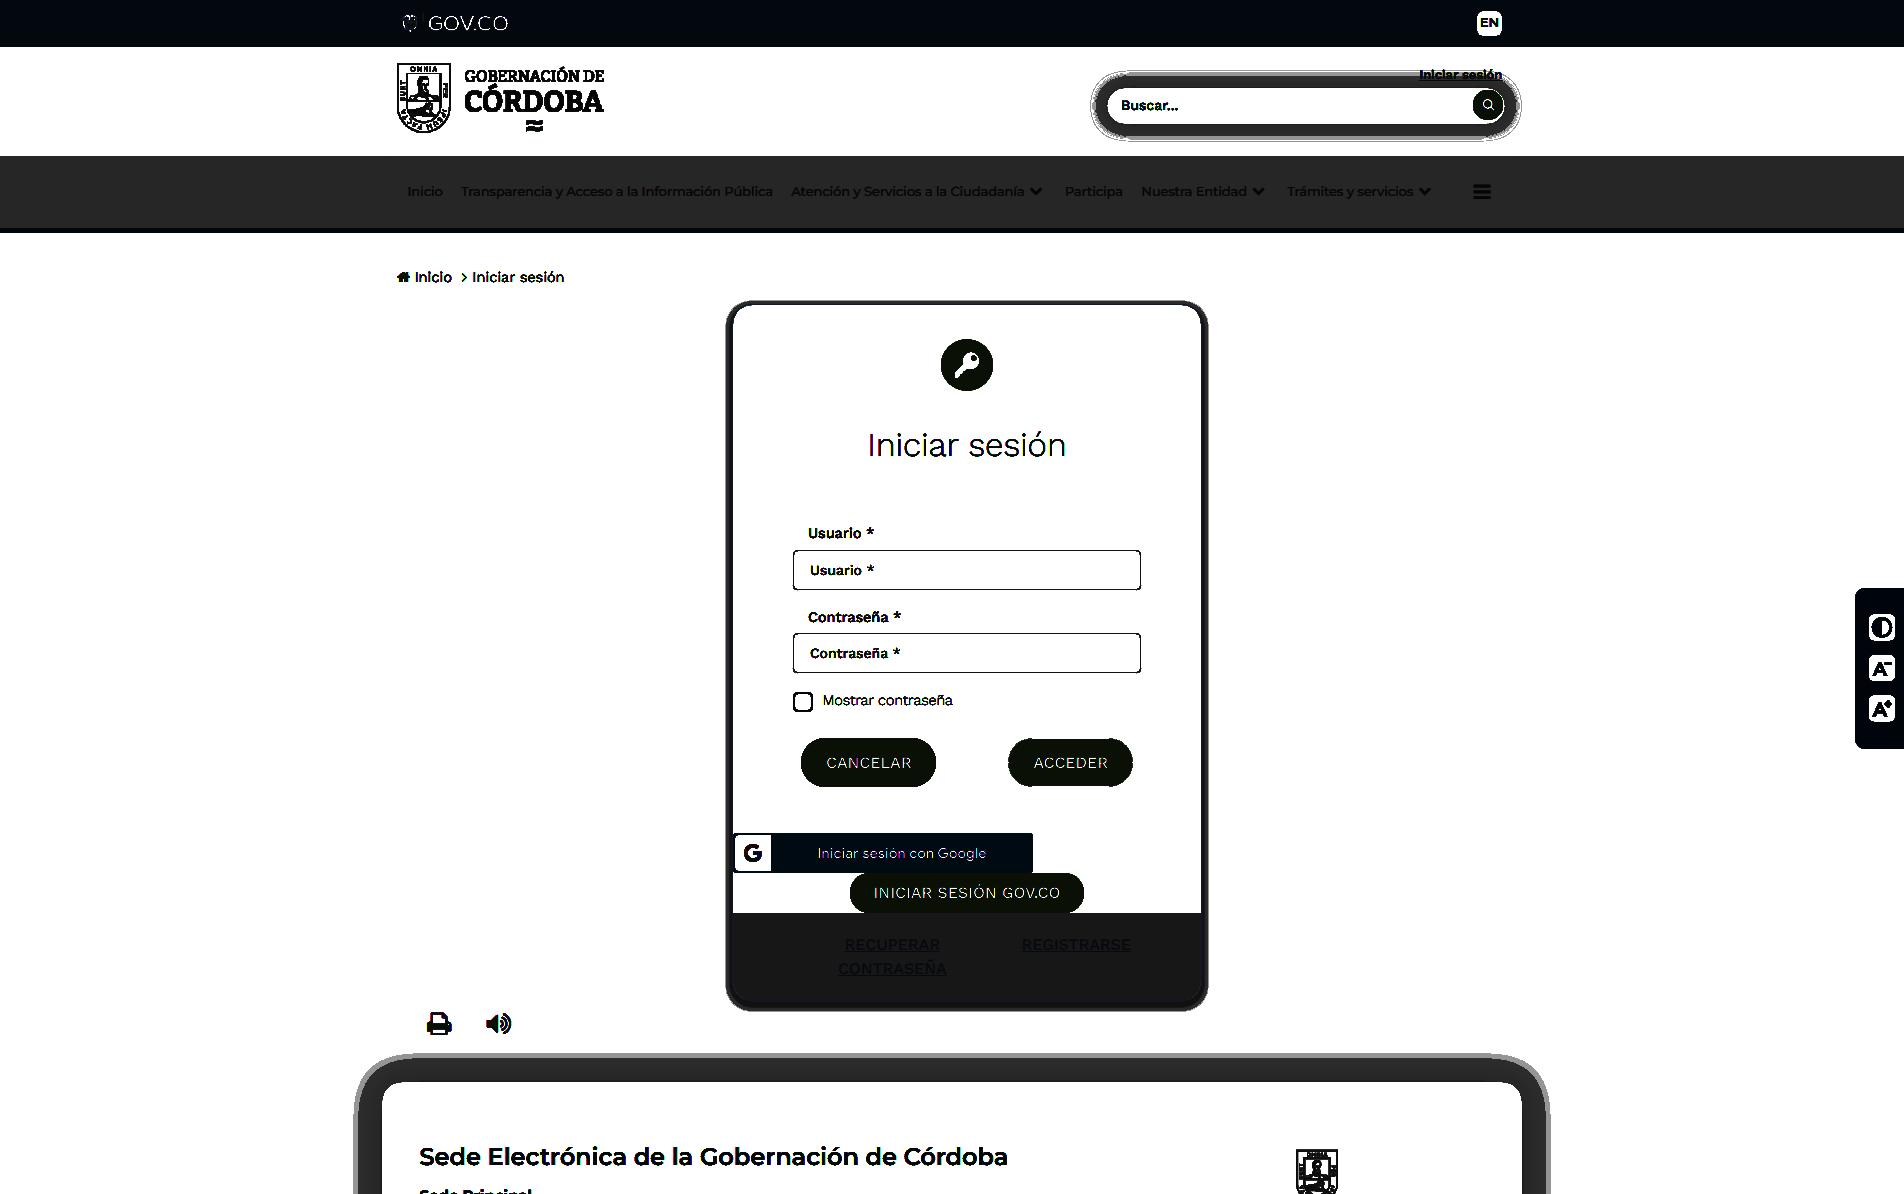barra accesibilidad: (1853, 583, 1904, 750)
barra govco: (392, 0, 1505, 49)
btn atencion ciudadano: (788, 178, 1045, 202)
btn buscador: (1104, 84, 1506, 125)
btn entidad: (1138, 179, 1268, 202)
btn idiomas: (1475, 9, 1503, 37)
btn inicio: (402, 181, 448, 202)
btn inicio sesion: (863, 426, 1069, 465), (469, 268, 568, 288), (1417, 68, 1505, 83)
btn participa: (1065, 182, 1127, 203)
btn registro: (1020, 934, 1136, 957)
btn tramites: (1282, 177, 1435, 205)
btn transpariencia: (456, 180, 777, 205)
footer: (378, 1075, 1526, 1194)
logogovco: (397, 7, 510, 39)
menu principal: (399, 153, 1500, 217)
